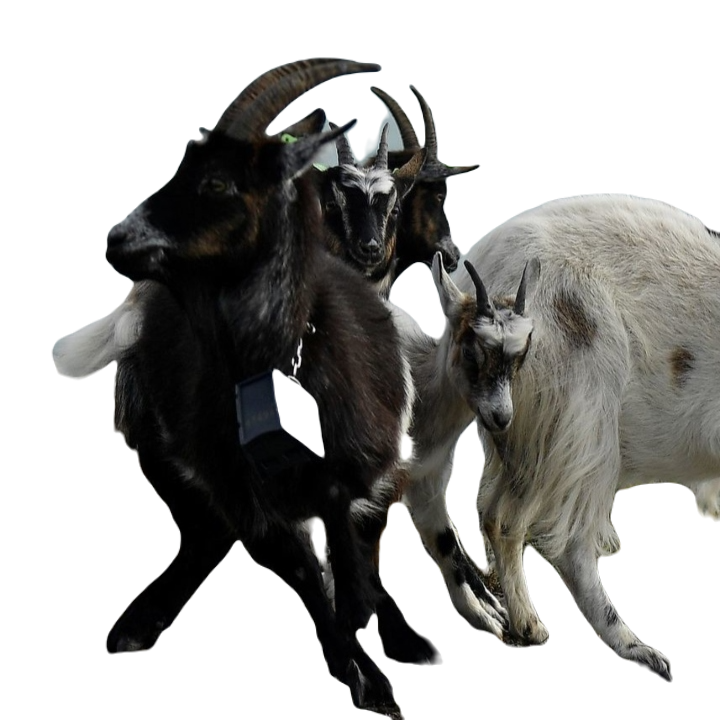Goat: (105, 56, 444, 719)
